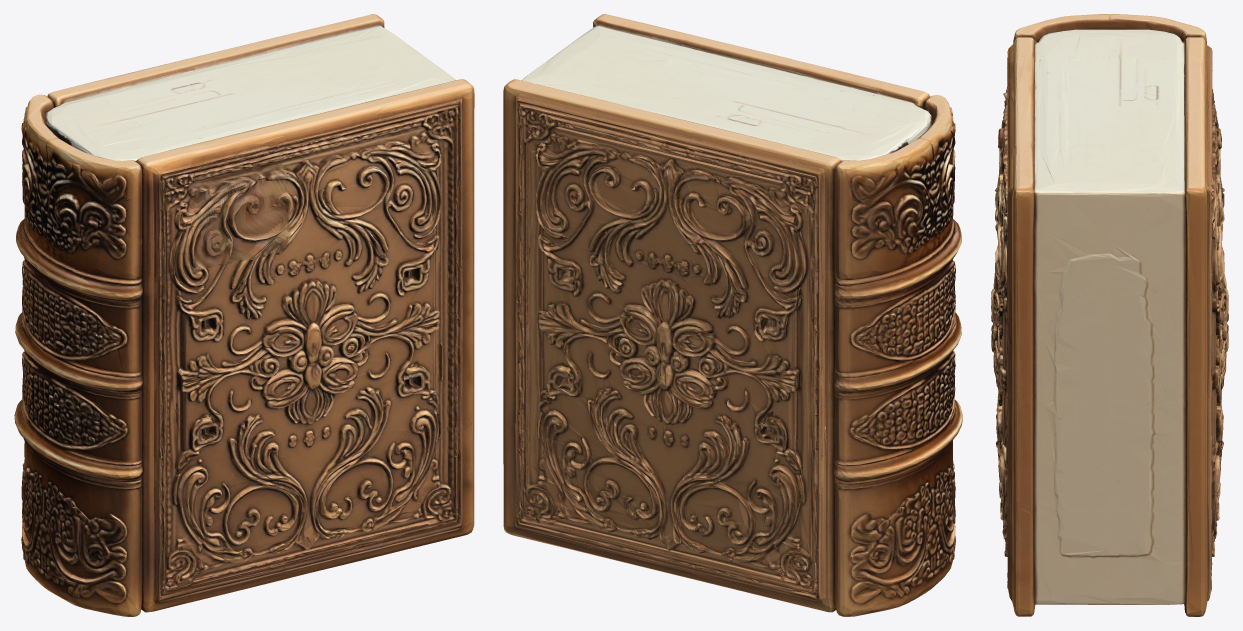
Rendered from tome-mine.glb.
The picture shows the model from 3 angles, left to right: view 1: azimuth 30°, elevation 25°; view 2: azimuth 150°, elevation 25°; view 3: azimuth 270°, elevation 25°; orthographic projection. The views are drawn at different scales.
Parts seen in each view (by area): view 1: tmpua644r1z.obj; view 2: tmpua644r1z.obj; view 3: tmpua644r1z.obj.
Boxes of the visible parts, x1,y1,x2,y2 form: tmpua644r1z.obj: (14,14,474,616); tmpua644r1z.obj: (503,14,962,616); tmpua644r1z.obj: (991,14,1228,616).
Size of the model in its own units: 1.3 by 1.43 by 0.7159.
1 material, 1 textured.
